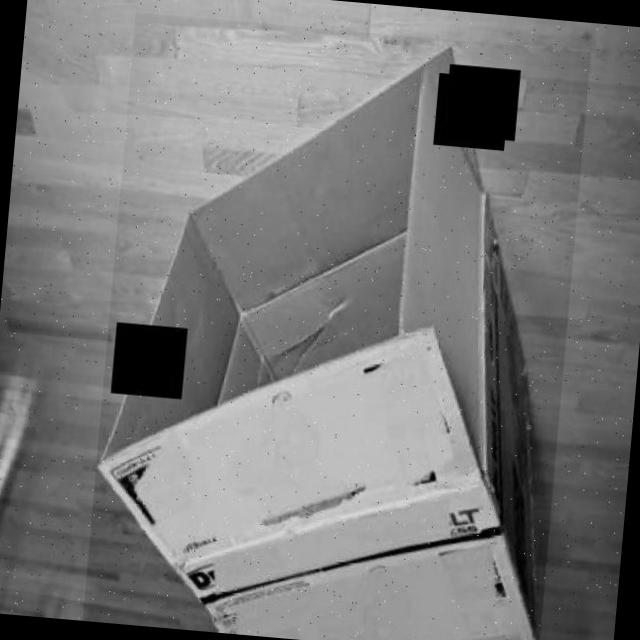box: (82, 11, 591, 640)
